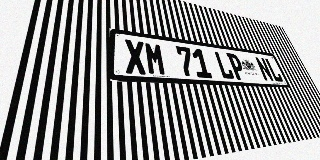1: (190, 48, 212, 78)
7: (174, 46, 197, 77)
L: (213, 51, 235, 79), (264, 58, 284, 82)
M: (144, 42, 167, 76)
N: (254, 57, 275, 82)
P: (226, 53, 247, 80)
X: (124, 39, 147, 75)
